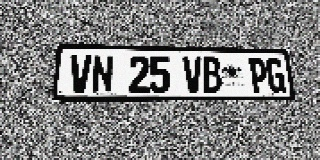2: (129, 56, 150, 93)
5: (150, 56, 170, 93)
B: (202, 57, 222, 93)
G: (266, 58, 286, 93)
N: (91, 55, 113, 93)
P: (248, 58, 269, 93)
V: (69, 54, 92, 93), (183, 57, 203, 93)
